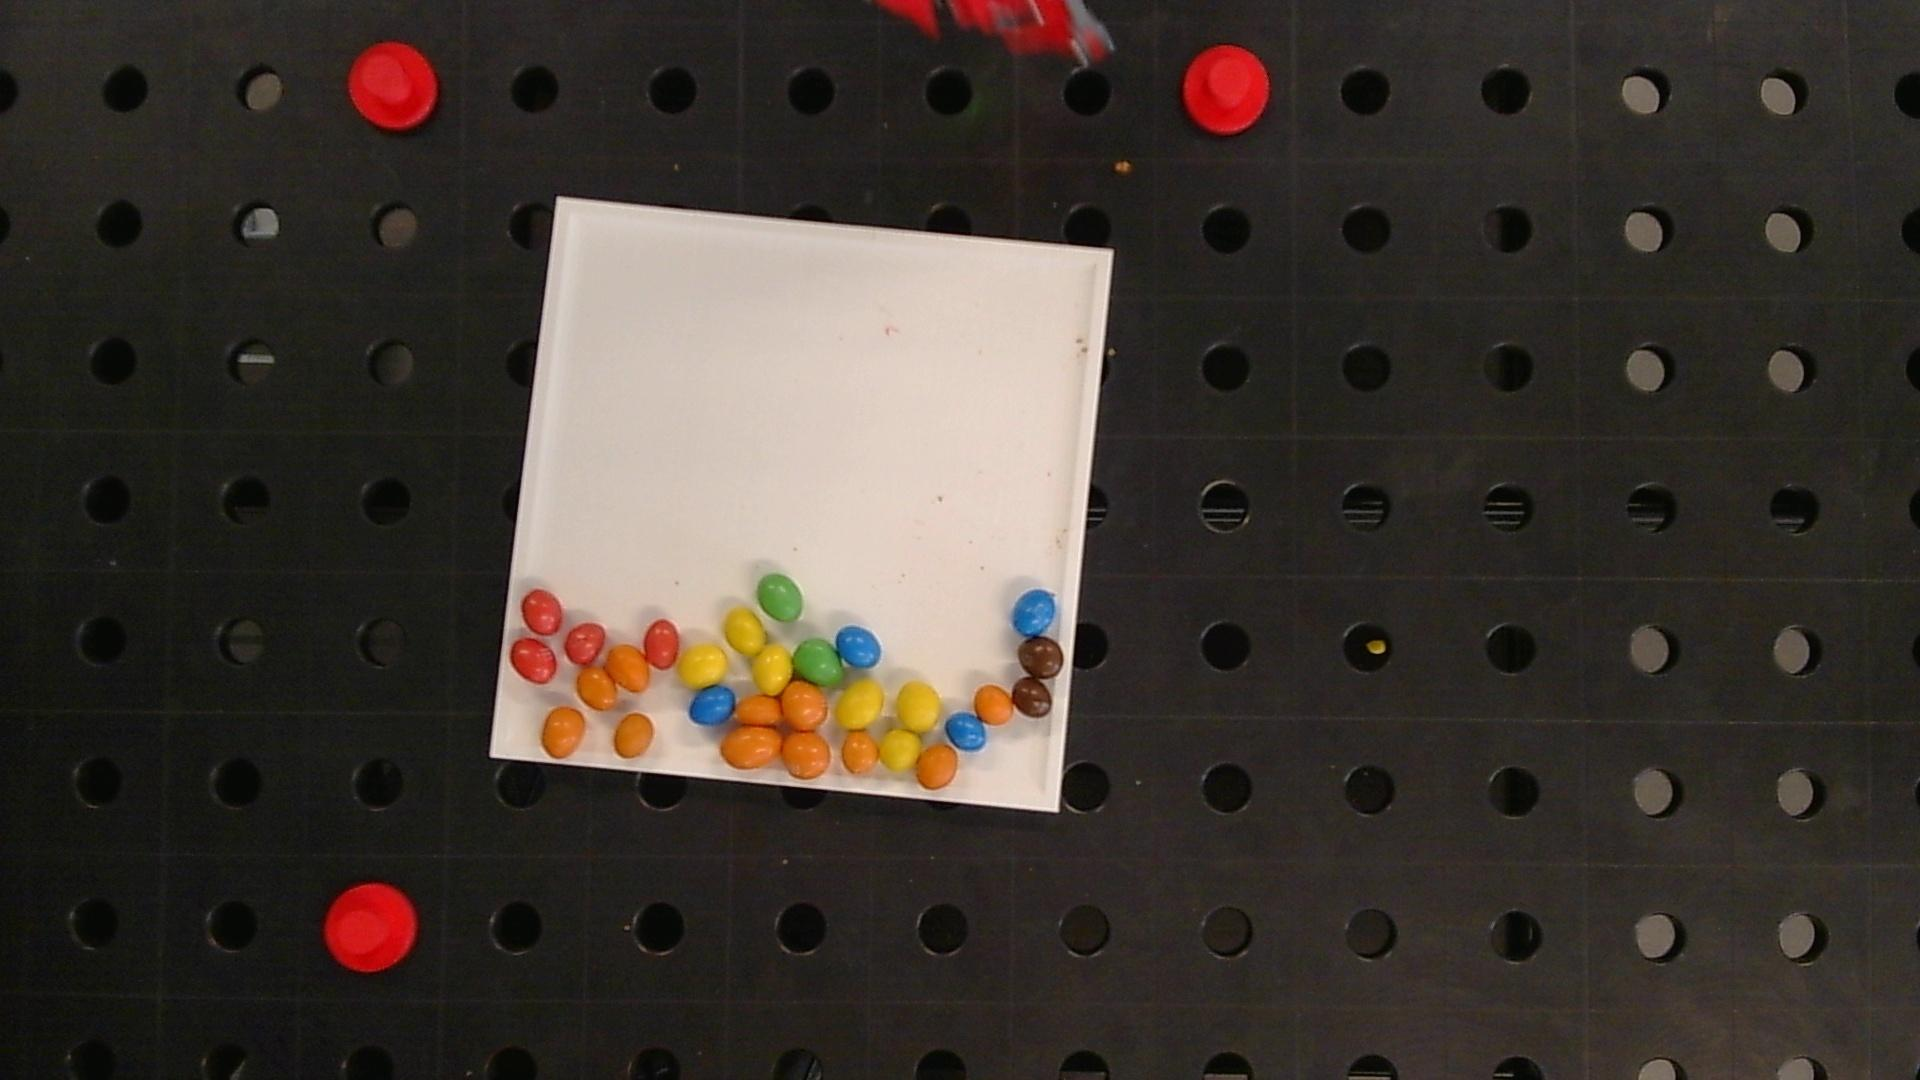blue: (836, 625, 882, 669), (1013, 591, 1056, 637), (690, 684, 736, 725), (945, 712, 986, 750)
brown: (1019, 637, 1064, 679), (1011, 678, 1054, 717)
green: (757, 572, 804, 621), (794, 638, 843, 686)
orange: (721, 727, 782, 769), (782, 732, 831, 778), (542, 707, 585, 757), (782, 682, 827, 729), (607, 645, 650, 692), (918, 742, 959, 789), (613, 713, 654, 757), (841, 732, 880, 774), (578, 667, 616, 709), (975, 684, 1014, 724), (737, 695, 781, 725)
red: (510, 638, 556, 683), (521, 589, 562, 634), (644, 618, 679, 669), (564, 621, 605, 665)
yellow: (836, 680, 884, 729), (895, 682, 942, 732), (679, 644, 727, 687), (752, 645, 793, 694), (725, 608, 765, 654), (880, 729, 920, 770)
